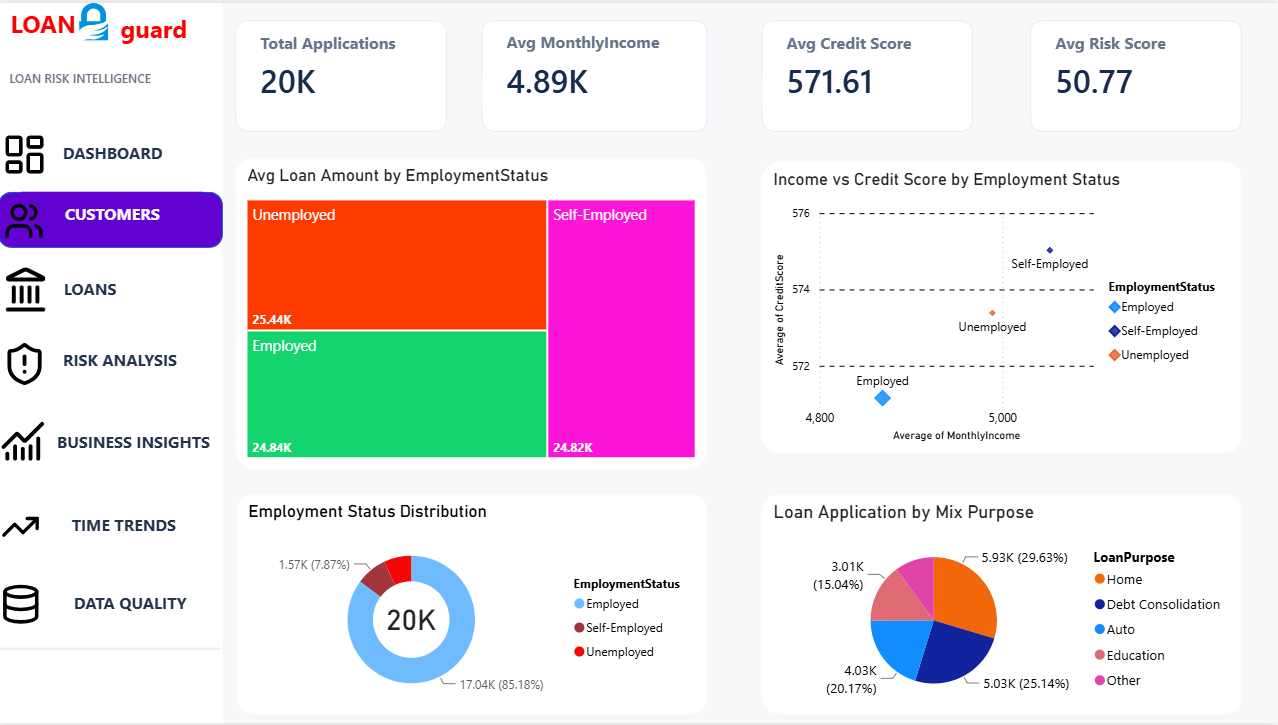

Layout of this report page (visuals, bound fields, positions):
{"tool":"powerbi","page":{"name":"Customer Analytics","canvas":[1280,720],"ordinal":1},"visuals":[{"type":"shape","box":[0,0,225,720.4],"z":0},{"type":"textbox","box":[0,60.8,222.3,32.9],"z":0,"group":"g1"},{"type":"shape","box":[0,631.2,222.3,28.8],"z":0,"group":"g2"},{"type":"textbox","box":[24.1,188.2,181.1,51.5],"z":1000,"group":"g1"},{"type":"shape","box":[0,188.8,225,56.2],"z":1000},{"type":"group","id":"g1","title":"Group 3","box":[0,0,222.5,660],"z":2000},{"type":"textbox","box":[3.8,262.5,176.7,50.9],"z":2000,"group":"g1"},{"type":"actionButton","box":[0,125,192.5,50],"z":3000},{"type":"textbox","box":[45,415,176.1,50.9],"z":3000,"group":"g1"},{"type":"actionButton","box":[0,263.8,192.5,50],"z":4000},{"type":"textbox","box":[25,333.8,189.2,50.9],"z":4000,"group":"g1"},{"type":"actionButton","box":[3.8,337.5,192.5,50],"z":5000},{"type":"textbox","box":[37.5,498.8,176.7,50.9],"z":5000,"group":"g1"},{"type":"textbox","box":[25.7,126.4,176.7,50.9],"z":6000,"group":"g1"},{"type":"actionButton","box":[0,412.5,225,50],"z":6000},{"type":"image","box":[0,197.2,52.5,41.1],"z":7000,"group":"g1"},{"type":"actionButton","box":[0,498.8,192.5,50],"z":7000},{"type":"image","box":[3.4,128.4,45.6,46],"z":8000,"group":"g1"},{"type":"actionButton","box":[0,577.5,192.5,50],"z":8000},{"type":"cardVisual","fields":{"Data":["loanguard loan_applications.Total Applications"]},"box":[237.7,16.9,211.4,111.4],"z":9000},{"type":"image","box":[0,262.5,55.2,47.7],"z":9000,"group":"g1"},{"type":"cardVisual","fields":{"Data":["Avg(loanguard loan_applications.MonthlyIncome)"]},"box":[483.8,16.9,225.6,111],"z":10000},{"type":"image","box":[3.8,337.5,45.6,47.7],"z":10000,"group":"g1"},{"type":"cardVisual","fields":{"Data":["loanguard loan_applications.Avg Credit Score"]},"box":[763.7,16.9,211.4,111.4],"z":11000},{"type":"image","box":[0,415,49.7,46],"z":11000,"group":"g1"},{"type":"cardVisual","fields":{"Data":["loanguard loan_applications.Avg Risk Score"]},"box":[1032.7,16.9,211.4,111.4],"z":12000},{"type":"image","box":[2.5,495,40,57.5],"z":12000,"group":"g1"},{"type":"donutChart","title":"Employment Status Distribution","fields":{"Category":["loanguard loan_applications.EmploymentStatus"],"Y":["CountNonNull(loanguard loan_applications.EmploymentStatus)"]},"box":[238.8,491.2,470,220],"z":13000},{"type":"image","box":[0,580,45.6,42.7],"z":13000,"group":"g1"},{"type":"textbox","box":[6.9,0,85.6,60.8],"z":14000,"group":"g1"},{"type":"scatterChart","title":"Income vs Credit Score by Employment Status","fields":{"X":["Avg(loanguard loan_applications.MonthlyIncome)"],"Y":["Avg(loanguard loan_applications.CreditScore)"],"Series":["loanguard loan_applications.EmploymentStatus"],"Size":["Sum(loanguard loan_applications.LoanAmount)"]},"box":[763.8,158.8,480,291.2],"z":14000},{"type":"image","box":[70.4,0,51.1,37.8],"z":15000,"group":"g1"},{"type":"treemap","fields":{"Group":["loanguard loan_applications.EmploymentStatus"],"Values":["loanguard loan_applications.Avg Loan Amount"]},"box":[237.5,155,471.2,311.2],"z":15000},{"type":"textbox","box":[117.4,4.9,87,54.2],"z":16000,"group":"g1"},{"type":"pieChart","title":"Loan Application by Mix Purpose","fields":{"Category":["loanguard loan_applications.LoanPurpose"],"Y":["CountNonNull(loanguard loan_applications.LoanPurpose)"]},"box":[764,491,480,220],"z":16000},{"type":"group","id":"g2","title":"Group 1","box":[0,631.2,222.5,28.8],"z":17000,"group":"g1"},{"type":"textbox","box":[43.8,576.2,176.7,50.9],"z":18000,"group":"g1"}]}

Visuals, with their boxes on the page's 1280x720 design canvas (x1, y1, x2, y2). These are canvas units, not pixel positions in the 1278x725 screenshot, which may show the page scaled, cropped or inside an application window:
shape: bbox=[0, 0, 225, 720]
textbox: bbox=[0, 61, 222, 94]
shape: bbox=[0, 631, 222, 660]
textbox: bbox=[24, 188, 205, 240]
shape: bbox=[0, 189, 225, 245]
"Group 3" group: bbox=[0, 0, 222, 660]
textbox: bbox=[4, 262, 180, 313]
actionButton: bbox=[0, 125, 192, 175]
textbox: bbox=[45, 415, 221, 466]
actionButton: bbox=[0, 264, 192, 314]
textbox: bbox=[25, 334, 214, 385]
actionButton: bbox=[4, 338, 196, 388]
textbox: bbox=[38, 499, 214, 550]
textbox: bbox=[26, 126, 202, 177]
actionButton: bbox=[0, 412, 225, 462]
image: bbox=[0, 197, 52, 238]
actionButton: bbox=[0, 499, 192, 549]
image: bbox=[3, 128, 49, 174]
actionButton: bbox=[0, 578, 192, 628]
cardVisual - loanguard loan_applications.Total Applications: bbox=[238, 17, 449, 128]
image: bbox=[0, 262, 55, 310]
cardVisual - Avg(loanguard loan_applications.MonthlyIncome): bbox=[484, 17, 709, 128]
image: bbox=[4, 338, 49, 385]
cardVisual - loanguard loan_applications.Avg Credit Score: bbox=[764, 17, 975, 128]
image: bbox=[0, 415, 50, 461]
cardVisual - loanguard loan_applications.Avg Risk Score: bbox=[1033, 17, 1244, 128]
image: bbox=[2, 495, 42, 552]
"Employment Status Distribution" donutChart: bbox=[239, 491, 709, 711]
image: bbox=[0, 580, 46, 623]
textbox: bbox=[7, 0, 92, 61]
"Income vs Credit Score by Employment Status" scatterChart: bbox=[764, 159, 1244, 450]
image: bbox=[70, 0, 122, 38]
treemap - loanguard loan_applications.EmploymentStatus x loanguard loan_applications.Avg Loan Amount: bbox=[238, 155, 709, 466]
textbox: bbox=[117, 5, 204, 59]
"Loan Application by Mix Purpose" pieChart: bbox=[764, 491, 1244, 711]
"Group 1" group: bbox=[0, 631, 222, 660]
textbox: bbox=[44, 576, 220, 627]
